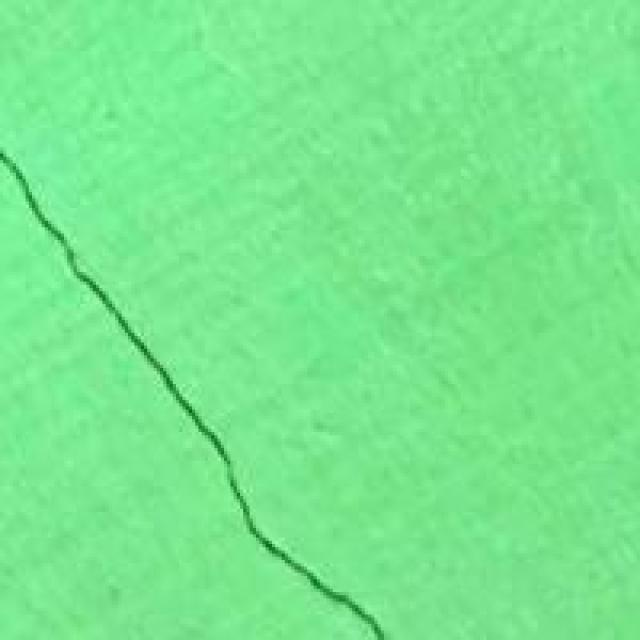Crack: (0, 141, 394, 637)
